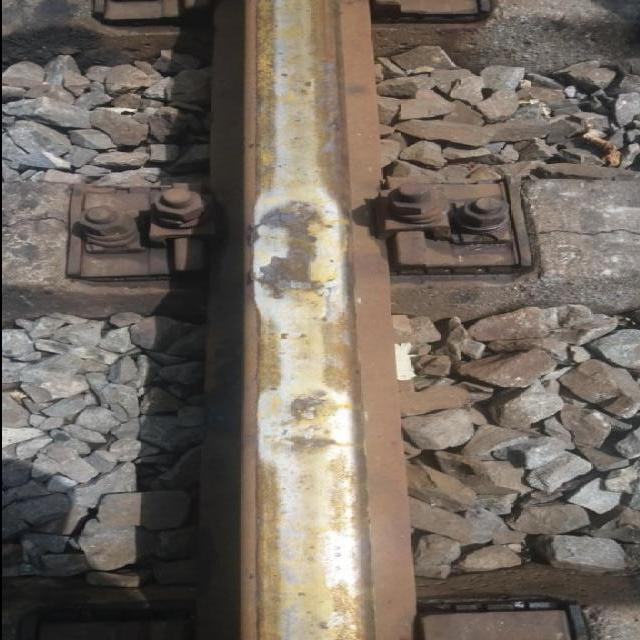railway_join_bar_defects_low: (254, 197, 338, 323)
squats_low: (257, 389, 345, 468)
